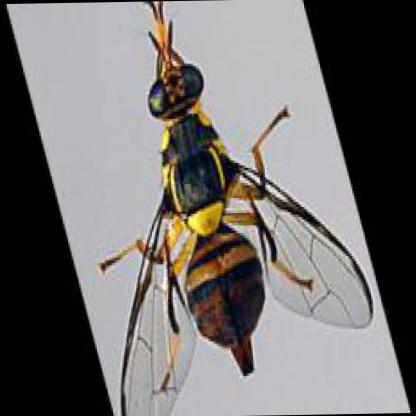fruit fly: (99, 3, 378, 415)
